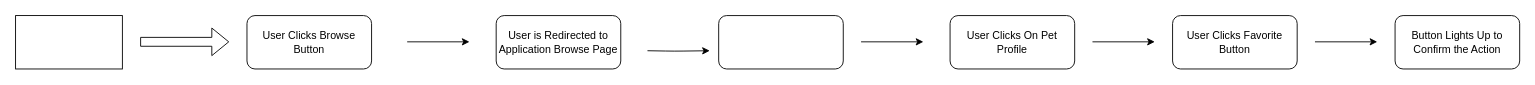
This 1535x85 diagram has some shape labels left out. The shapes that lost their labels are listed below. From the top down, each one's centre as x and y in pixels, then its label:
At [68,42]: "Browse/Favorite Pets".
At [780,42]: "User Scrolls Through Pet Profiles".
